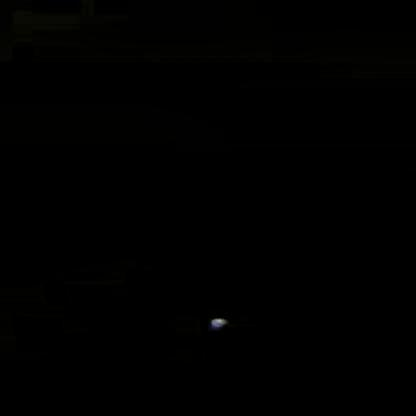golfball: (207, 314, 227, 331)
